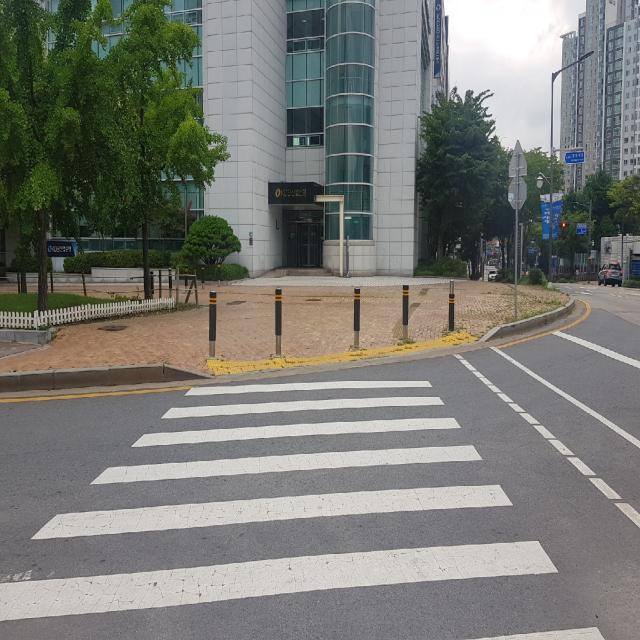횡단보도: (0, 379, 607, 640)
